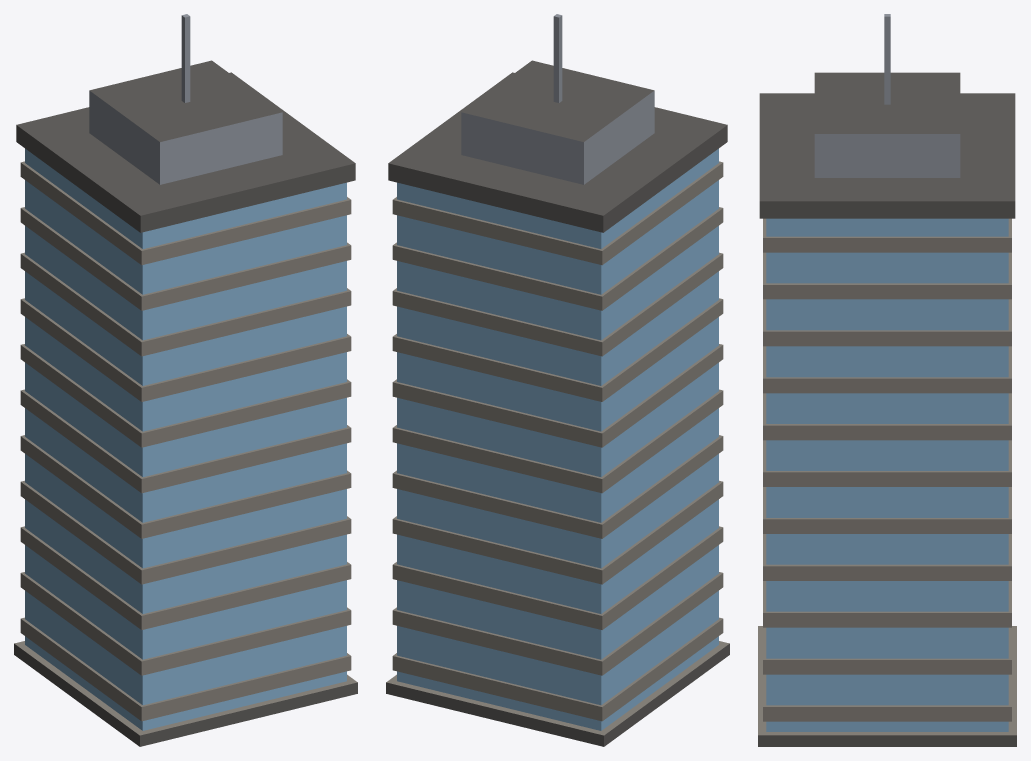
File: edificio_torre.obj
3 renders of one model, left to right at view 1: azimuth 30°, elevation 25°; view 2: azimuth 150°, elevation 25°; view 3: azimuth 270°, elevation 25°, orthographic. The views are drawn at different scales.
Parts seen in each view (by area): view 1: edificio_torre; view 2: edificio_torre; view 3: edificio_torre.
Boxes of the visible parts, box(x1,y1,x2,y2) form: edificio_torre: box(14, 14, 357, 746); edificio_torre: box(386, 14, 729, 746); edificio_torre: box(758, 14, 1016, 746).
Bounding box in the file's own units: 16 × 46.2 × 16.
